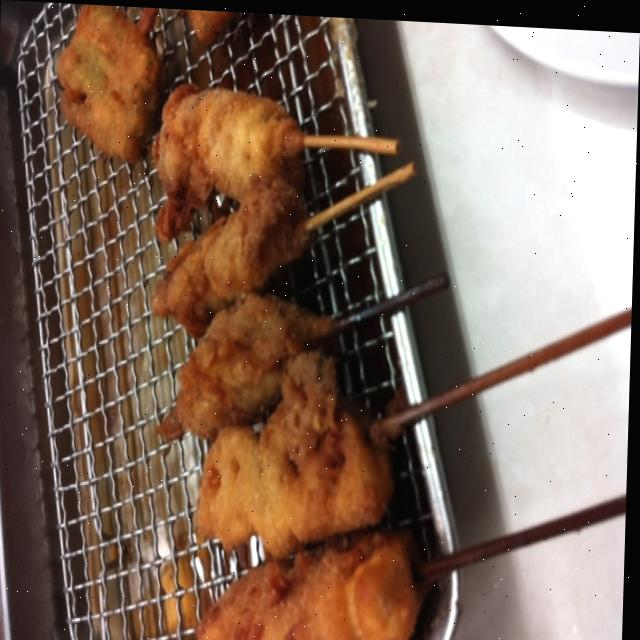蔬菜料理: (7, 28, 616, 640)
